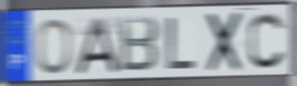A: (73, 15, 121, 76)
B: (118, 14, 161, 74)
C: (247, 10, 287, 71)
L: (165, 16, 199, 72)
O: (34, 17, 73, 76)
X: (205, 9, 244, 74)
